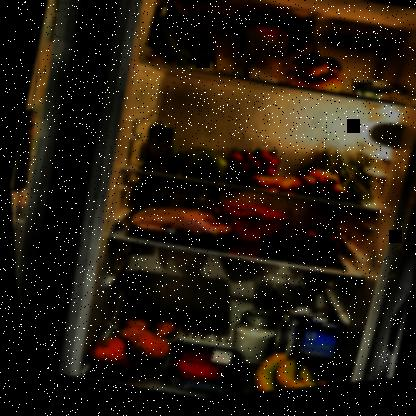apple: (158, 139, 231, 191)
banana: (243, 343, 340, 397)
beef: (164, 343, 233, 396)
blueberries: (254, 232, 320, 272)
butter: (209, 199, 288, 259)
carrot: (290, 168, 352, 216), (247, 173, 296, 201)
chicken: (118, 186, 248, 269)
corn: (293, 225, 339, 266)
green_beans: (297, 136, 381, 219)
heavy_cream: (135, 121, 173, 179)
milk: (277, 317, 342, 394), (267, 308, 324, 380)
onion: (280, 45, 353, 104)
potato: (113, 299, 179, 350)
spinach: (135, 0, 237, 87)
strawberries: (222, 145, 279, 191)
sweet_potato: (80, 315, 175, 393)
